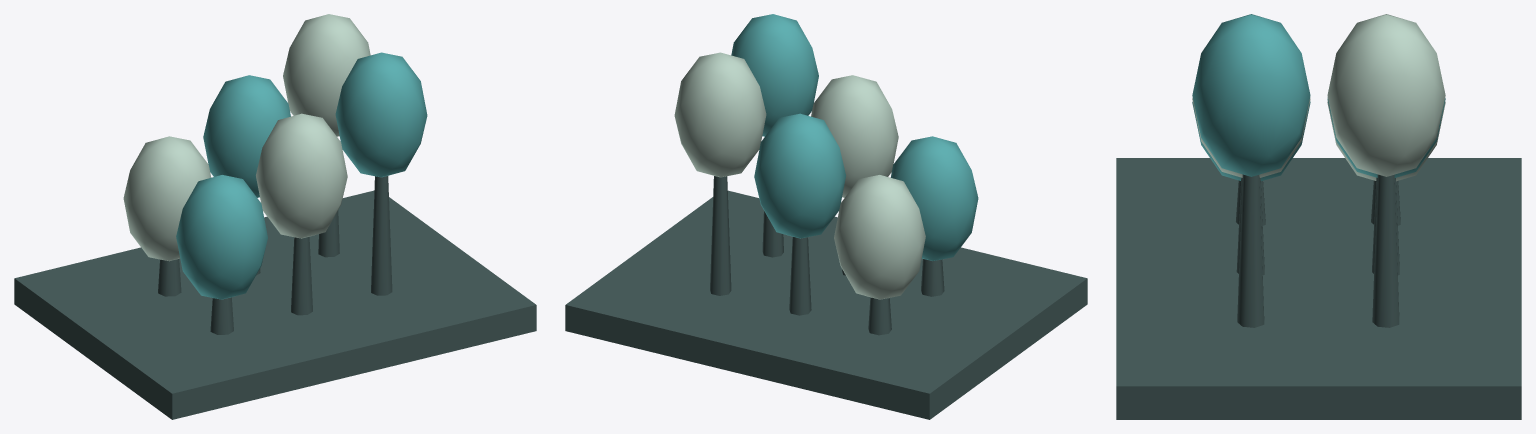
File: frostflower_nest.glb
3 renders of one model, left to right at view 1: azimuth 30°, elevation 25°; view 2: azimuth 150°, elevation 25°; view 3: azimuth 270°, elevation 25°, orthographic. The views are drawn at different scales.
Visible parts, largest first — view 1: habitat_base, bloom_4, bloom_5, bloom_3, bloom_0, bloom_2, bloom_1, stem_5, stem_4, stem_0, stem_3, stem_2; view 2: habitat_base, bloom_1, bloom_2, bloom_0, bloom_3, bloom_5, bloom_4, stem_2, stem_1, stem_0, stem_3, stem_5; view 3: habitat_base, bloom_2, bloom_5, stem_2, stem_5, bloom_4, bloom_1, bloom_3, bloom_0, stem_1, stem_4.
Boxes of the visible parts, <box> form: habitat_base: <box>14,190,536,419</box>; bloom_4: <box>256,113,347,238</box>; bloom_5: <box>335,52,427,177</box>; bloom_3: <box>176,175,267,299</box>; bloom_0: <box>123,136,211,261</box>; bloom_2: <box>283,14,370,136</box>; bloom_1: <box>203,75,290,197</box>; stem_5: <box>371,176,392,295</box>; stem_4: <box>291,236,312,315</box>; stem_0: <box>158,259,181,296</box>; stem_3: <box>210,297,233,334</box>; stem_2: <box>318,210,339,257</box>; habitat_base: <box>565,190,1087,419</box>; bloom_1: <box>754,113,845,238</box>; bloom_2: <box>674,52,766,177</box>; bloom_0: <box>834,175,925,299</box>; bloom_3: <box>890,136,978,260</box>; bloom_5: <box>731,14,818,136</box>; bloom_4: <box>811,75,898,197</box>; stem_2: <box>710,176,731,295</box>; stem_1: <box>789,237,811,315</box>; stem_0: <box>868,297,891,335</box>; stem_3: <box>921,259,944,296</box>; stem_5: <box>762,211,783,257</box>; habitat_base: <box>1116,158,1521,419</box>; bloom_2: <box>1327,14,1445,176</box>; bloom_5: <box>1192,14,1310,176</box>; stem_2: <box>1372,174,1399,327</box>; stem_5: <box>1237,174,1264,327</box>; bloom_4: <box>1192,97,1310,177</box>; bloom_1: <box>1327,97,1445,177</box>; bloom_3: <box>1192,101,1310,181</box>; bloom_0: <box>1327,101,1445,181</box>; stem_1: <box>1372,177,1399,275</box>; stem_4: <box>1236,177,1264,275</box>.
Size of what is drawn, in the model's own units: 3.2 by 2.47 by 2.4.
